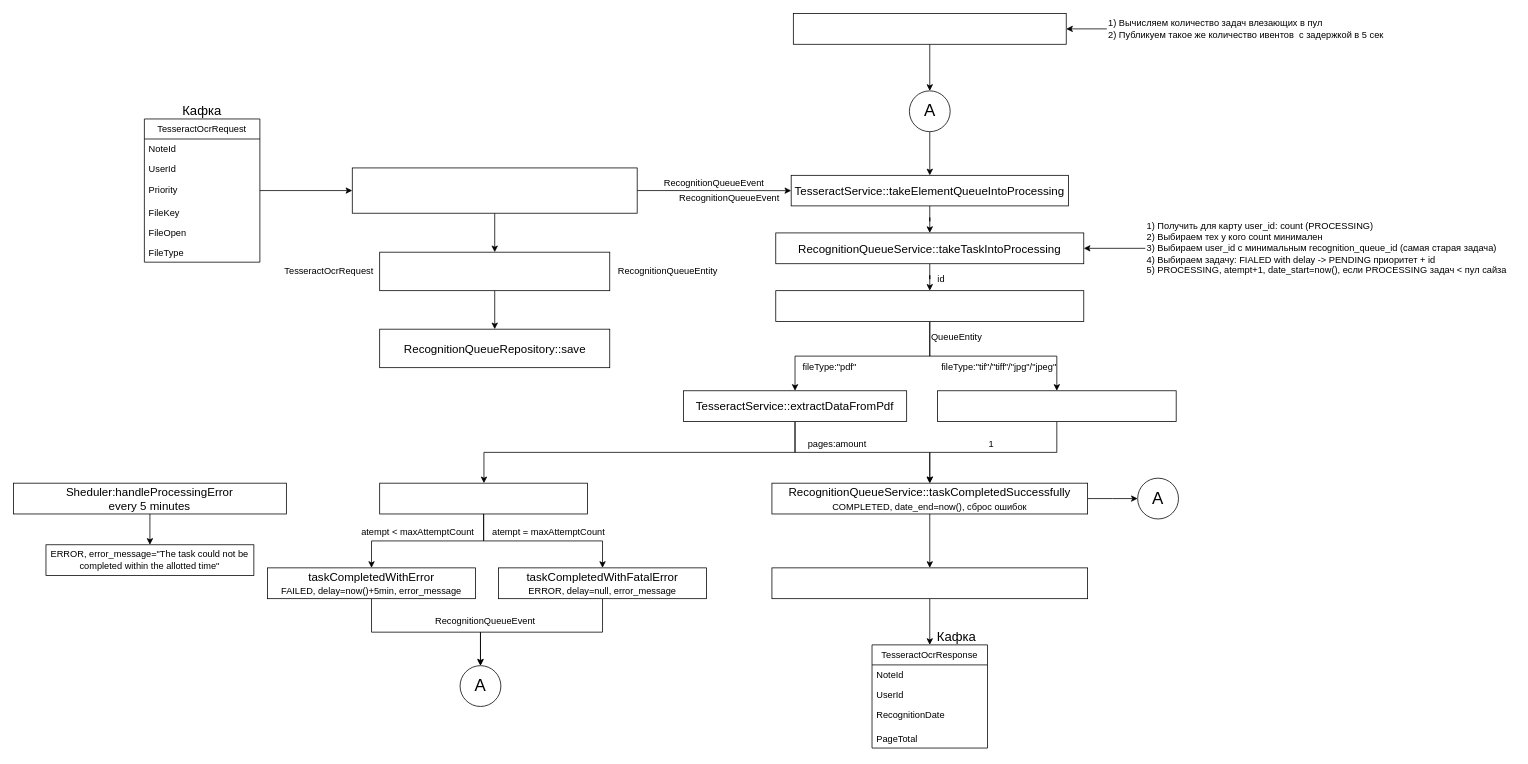
This 1528x764 diagram has some shape labels left out. Here are the shapes that lost their labels. From the top down, the centre of each, then its label:
At point 929,28: "Sheduler: handleRecognitionQueue every 5 minutes".
At point 494,190: "RecognitionQueueService::addToRecognitionQueue".
At point 494,271: "RecognitionQueueMapper::dtoToEntity".
At point 929,305: "RecognitionQueueRepository::findById".
At point 1056,406: "TesseractService:: extractDataFromImage".
At point 483,498: "RecognitionQueueService:: handleError".
At point 929,583: "RecognitionQueueService:: recognitionQueueNotification".
